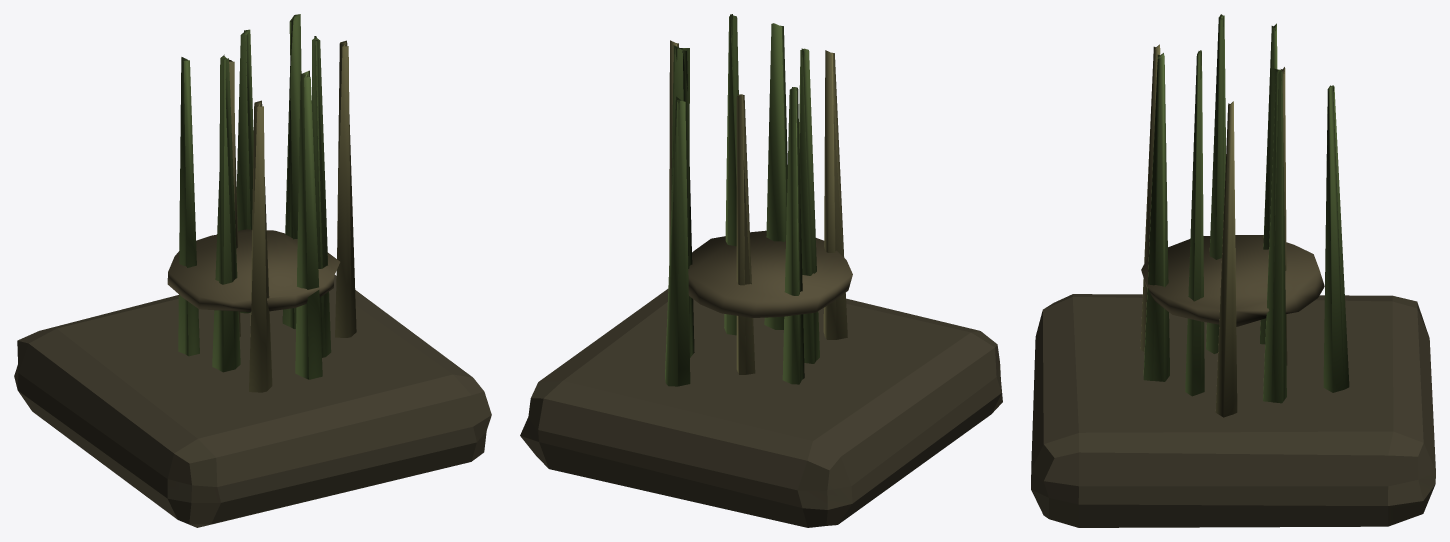
File: wall_region2_v2.glb
3 renders of one model, left to right at view 1: azimuth 30°, elevation 25°; view 2: azimuth 150°, elevation 25°; view 3: azimuth 270°, elevation 25°, orthographic. The views are drawn at different scales.
Visible parts, largest first — view 1: wall_region2_v2; view 2: wall_region2_v2; view 3: wall_region2_v2.
Part boxes in pixels (<box>): wall_region2_v2: <box>14,14,491,527</box>; wall_region2_v2: <box>520,14,1002,527</box>; wall_region2_v2: <box>1031,14,1435,527</box>.
Bounding box in the file's own units: 0.9417 × 1.13 × 0.9541.
